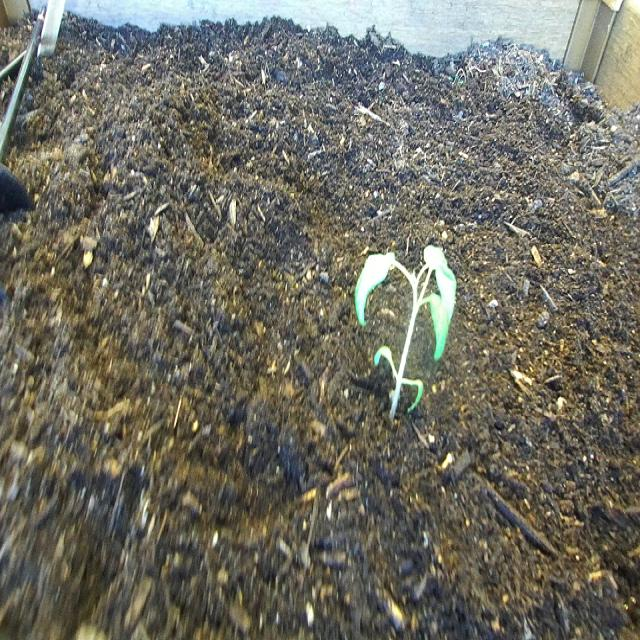Healthy: (345, 202, 464, 448)
